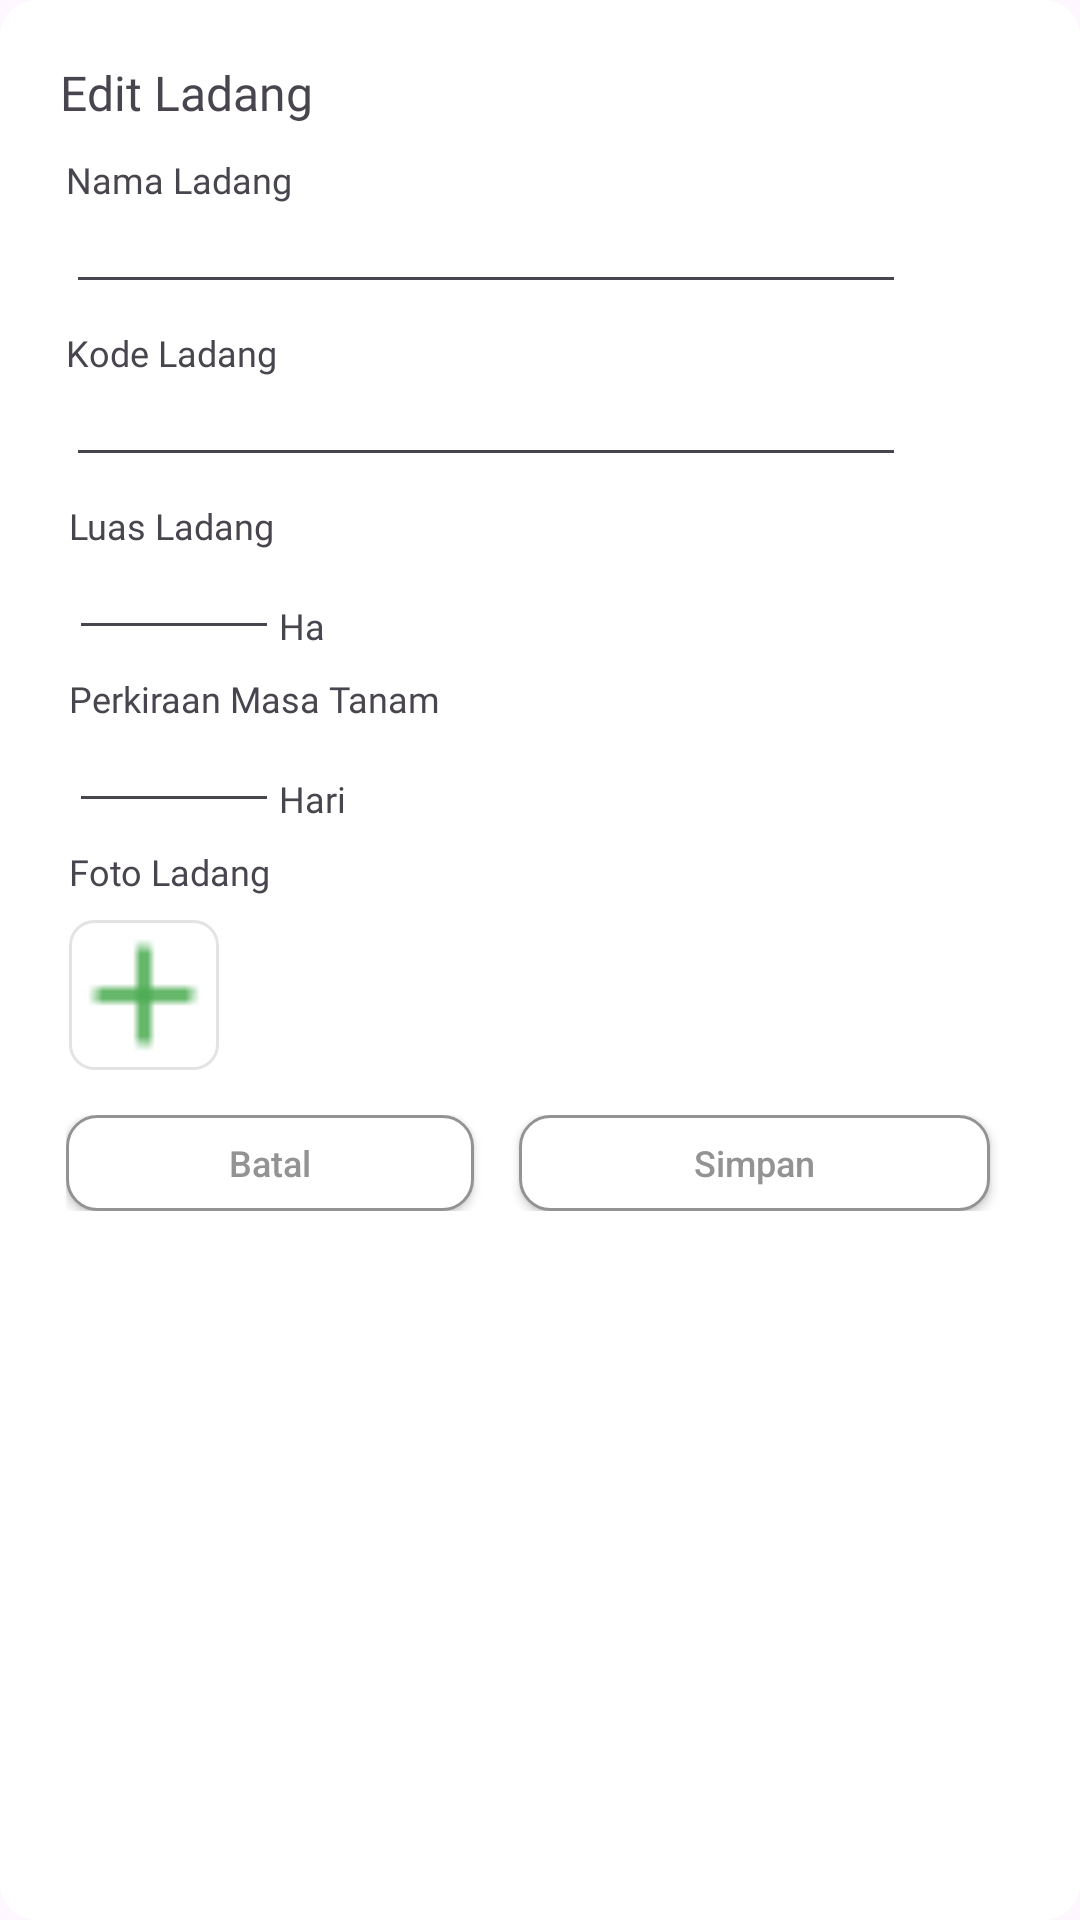

Icons on this 1080 × 1920 Android screen, each with the point to tap as point (x, y):
plus: point (144, 995)
